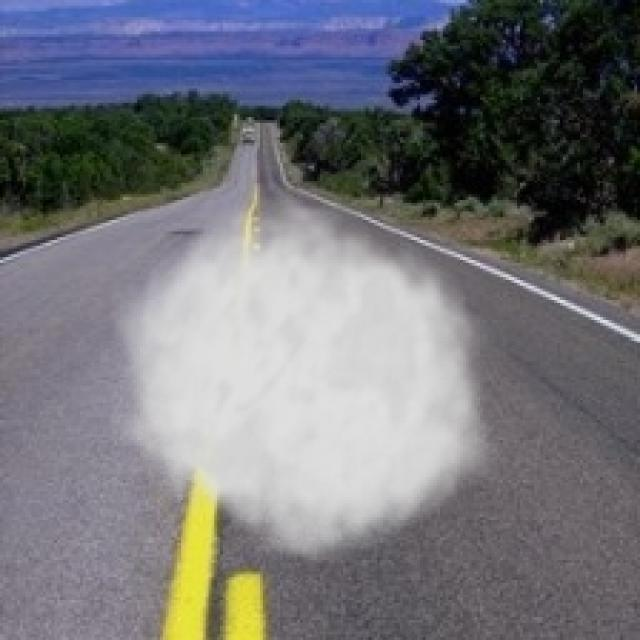Smoke: (108, 186, 506, 572)
